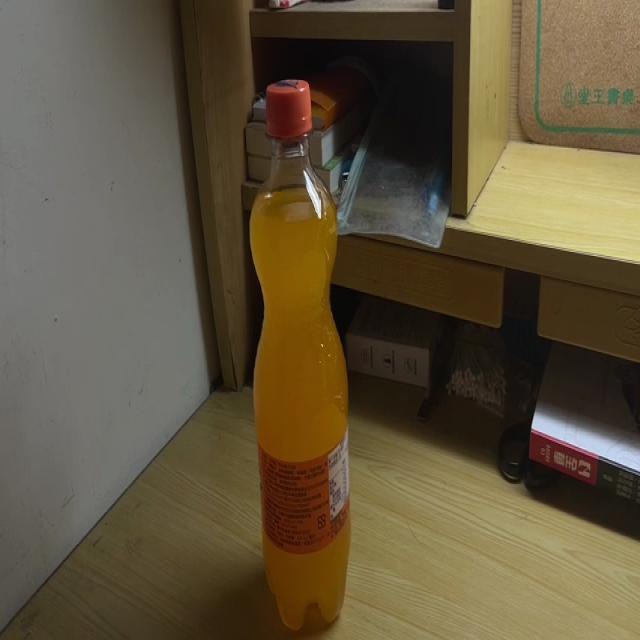Fanta: (248, 82, 353, 632)
